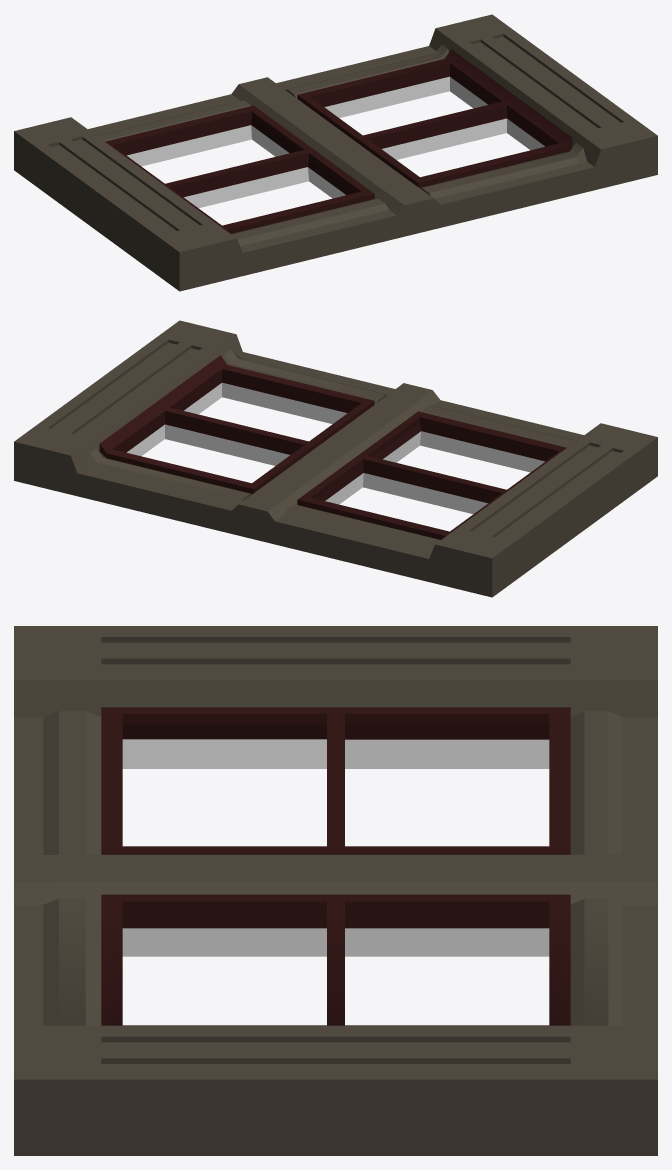
The model's file is P_F_OLDType4SansW.fbx.
3 renders of one model, top to bottom at view 1: azimuth 30°, elevation 25°; view 2: azimuth 150°, elevation 25°; view 3: azimuth 270°, elevation 25°, orthographic. The views are drawn at different scales.
Visible parts, largest first — view 1: P_F_OLDType4SansW; view 2: P_F_OLDType4SansW; view 3: P_F_OLDType4SansW.
Boxes of the visible parts, x1,y1,x2,y2 form: P_F_OLDType4SansW: (14, 14, 657, 291); P_F_OLDType4SansW: (14, 320, 657, 597); P_F_OLDType4SansW: (14, 626, 657, 1155).
Size of the model in its own units: 650 by 50.86 by 390.
